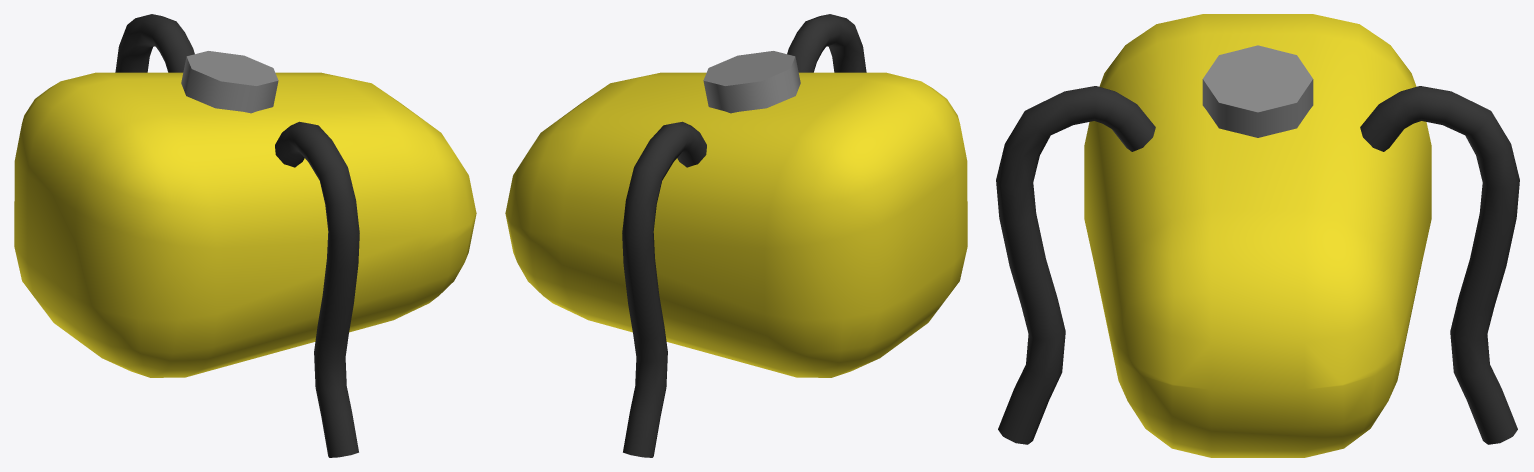
Rendered from engine_1.fbx.
The picture shows the model from 3 angles, left to right: view 1: azimuth 30°, elevation 25°; view 2: azimuth 150°, elevation 25°; view 3: azimuth 270°, elevation 25°; orthographic projection. The views are drawn at different scales.
Visible parts, largest first — view 1: engine_1; view 2: engine_1; view 3: engine_1.
Part boxes in pixels (x1=…): engine_1: x1=14, y1=14, x2=476, y2=457; engine_1: x1=505, y1=14, x2=967, y2=457; engine_1: x1=996, y1=14, x2=1519, y2=457.
Size of the model in its own units: 185 by 145 by 186.
